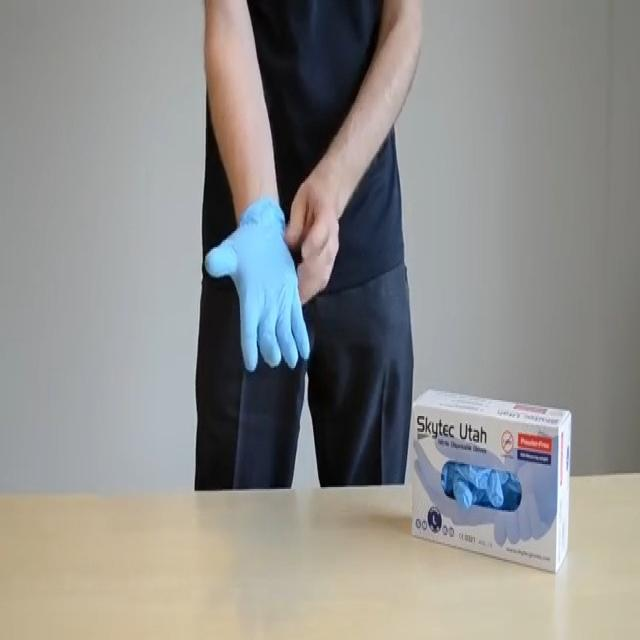Gloves: (203, 188, 320, 382)
